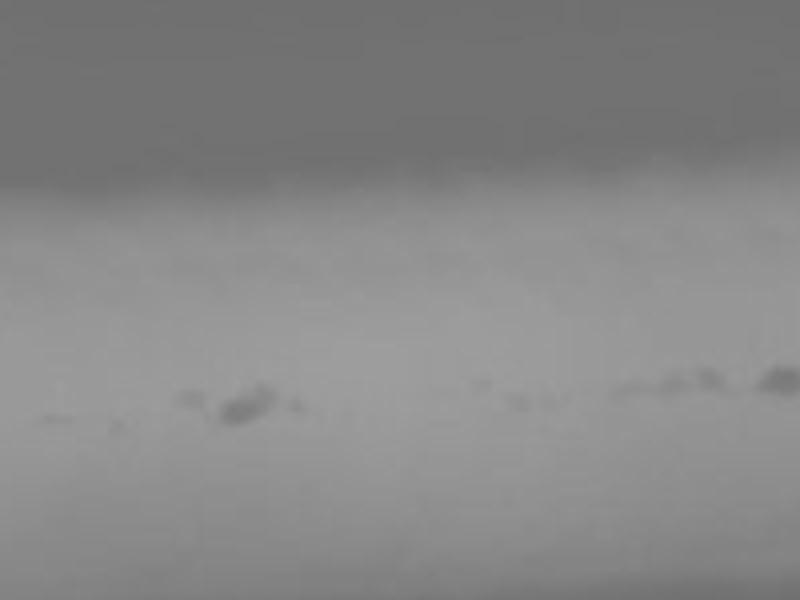defect: (218, 383, 274, 423), (756, 366, 800, 397), (656, 371, 689, 404), (694, 365, 730, 394), (620, 371, 654, 400), (41, 405, 77, 425), (170, 384, 205, 404), (501, 387, 529, 411), (286, 394, 309, 418), (470, 372, 495, 392), (108, 416, 130, 436)
